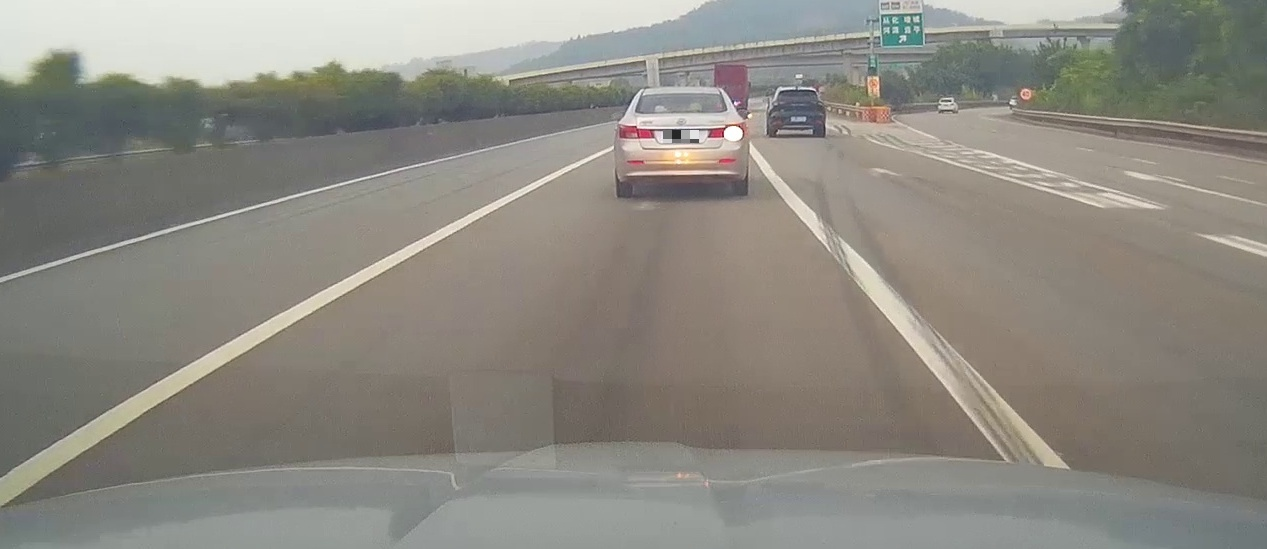L_light: (618, 124, 655, 138), (772, 101, 785, 106)
R_light: (707, 124, 744, 142), (810, 100, 824, 107)
T_light: (675, 91, 690, 96), (793, 88, 803, 92)
day-no: (769, 86, 825, 137)
day-right: (616, 86, 747, 198)
plate_1: (663, 130, 699, 143)
